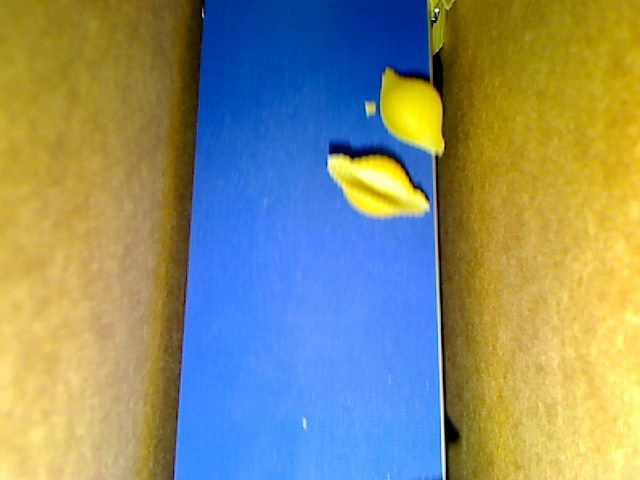penne: (426, 1, 448, 60)
shell: (323, 150, 435, 221), (380, 70, 449, 157)
